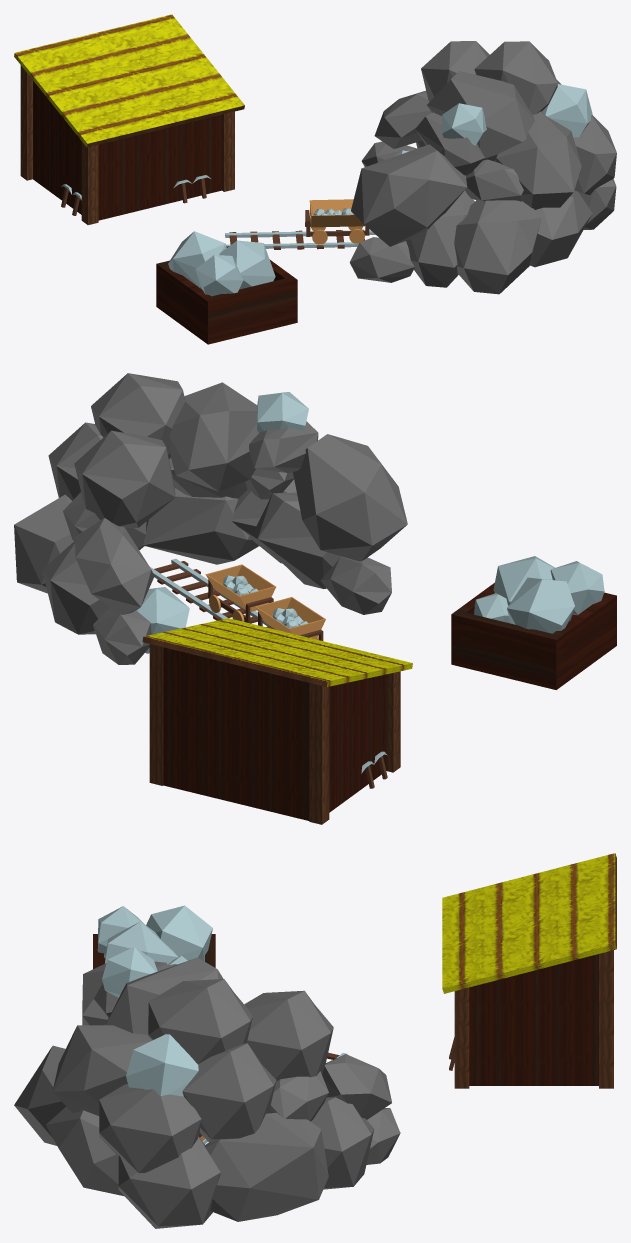
The model's file is Mine_Diamond_Age1.fbx.
3 views of the same model, one above another, from view 1: azimuth 30°, elevation 25°; view 2: azimuth 150°, elevation 25°; view 3: azimuth 270°, elevation 25° (orthographic). The views are drawn at different scales.
Parts seen in each view (by area): view 1: Caverne, MinerHouse, Cube, Wagon, Icosphere.002, Icosphere.005, Icosphere.003, Icosphere.004, Icosphere.001, RAil; view 2: Caverne, MinerHouse, Cube, Icosphere.003, Wagon.001, Wagon, RAil, Icosphere.001, Icosphere, Icosphere.004, Icosphere.005, Icosphere.006; view 3: Caverne, MinerHouse, Icosphere.002, Icosphere.003, Icosphere.005, Icosphere.001, Icosphere.004, Cube.
Part boxes in pixels (x1,y1,x2,y2): Caverne: (349, 41, 616, 294); MinerHouse: (14, 14, 244, 224); Cube: (156, 246, 297, 344); Wagon: (305, 199, 369, 244); Icosphere.002: (542, 84, 592, 137); Icosphere.005: (219, 240, 275, 289); Icosphere.003: (168, 231, 226, 288); Icosphere.004: (195, 255, 243, 296); Icosphere.001: (442, 103, 486, 146); RAil: (225, 229, 405, 249); Caverne: (14, 373, 407, 664); MinerHouse: (142, 618, 412, 824); Cube: (451, 582, 616, 689); Icosphere.003: (507, 577, 574, 633); Wagon.001: (205, 564, 275, 623); Wagon: (255, 597, 325, 640); RAil: (150, 558, 275, 629); Icosphere.001: (256, 392, 308, 432); Icosphere: (136, 587, 189, 653); Icosphere.004: (550, 561, 604, 615); Icosphere.005: (493, 556, 554, 605); Icosphere.006: (474, 593, 510, 623); Caverne: (14, 957, 400, 1228); MinerHouse: (442, 853, 616, 1088); Icosphere.002: (126, 1034, 198, 1096); Icosphere.003: (146, 905, 212, 961); Icosphere.005: (105, 921, 178, 964); Icosphere.001: (102, 946, 157, 997); Icosphere.004: (97, 906, 143, 958); Cube: (93, 934, 215, 968).
Bounding box in the file's own units: 984 × 398 × 982.
7 materials, 3 textured.
